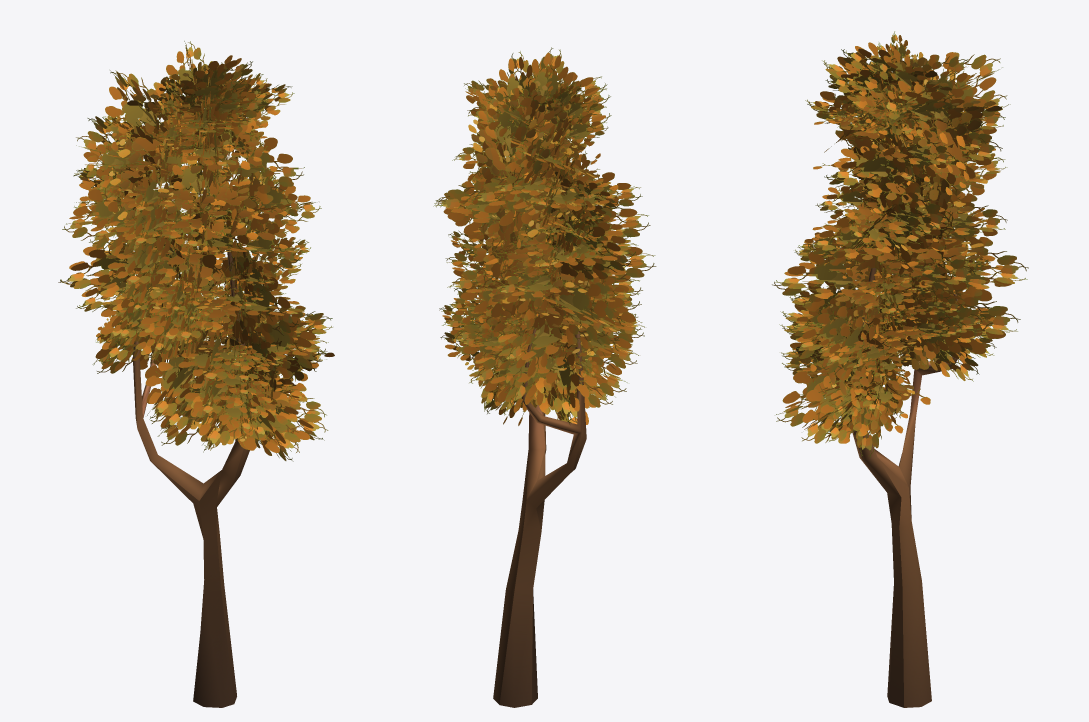
Rendered from Tree_2C.fbx.
3 renders of one model, left to right at view 1: azimuth 30°, elevation 25°; view 2: azimuth 150°, elevation 25°; view 3: azimuth 270°, elevation 25°, orthographic. The views are drawn at different scales.
Parts seen in each view (by area): view 1: Tree_2C; view 2: Tree_2C; view 3: Tree_2C.
Part boxes in pixels (<box>): Tree_2C: <box>58,41,334,707</box>; Tree_2C: <box>433,47,656,707</box>; Tree_2C: <box>772,31,1028,707</box>.
Size of the model in its own units: 528 by 1163 by 544.
